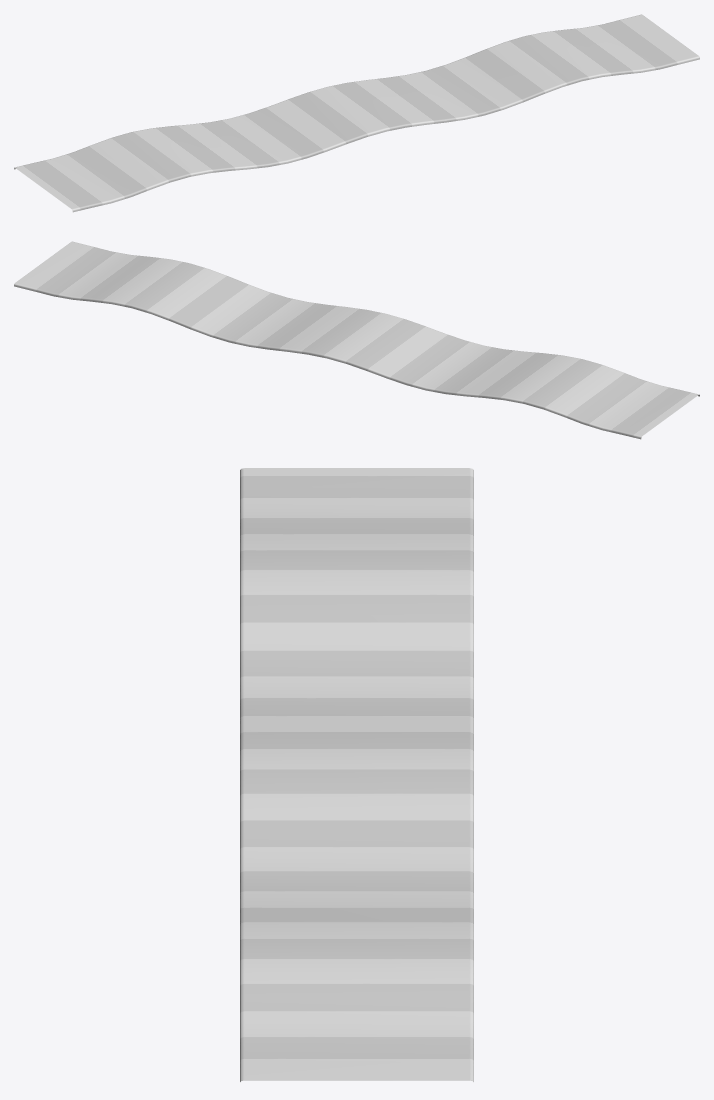
File: Pathgeo2.fbx
3 views of the same model, one above another, from view 1: azimuth 30°, elevation 25°; view 2: azimuth 150°, elevation 25°; view 3: azimuth 270°, elevation 25° (orthographic). The views are drawn at different scales.
Parts seen in each view (by area): view 1: Path2; view 2: Path2; view 3: Path2.
Boxes of the visible parts, bbox=[...] form: Path2: bbox=[14, 14, 699, 212]; Path2: bbox=[14, 241, 699, 439]; Path2: bbox=[240, 468, 473, 1081].
Size of the model in its own units: 29.84 by 0.5965 by 4.82.
